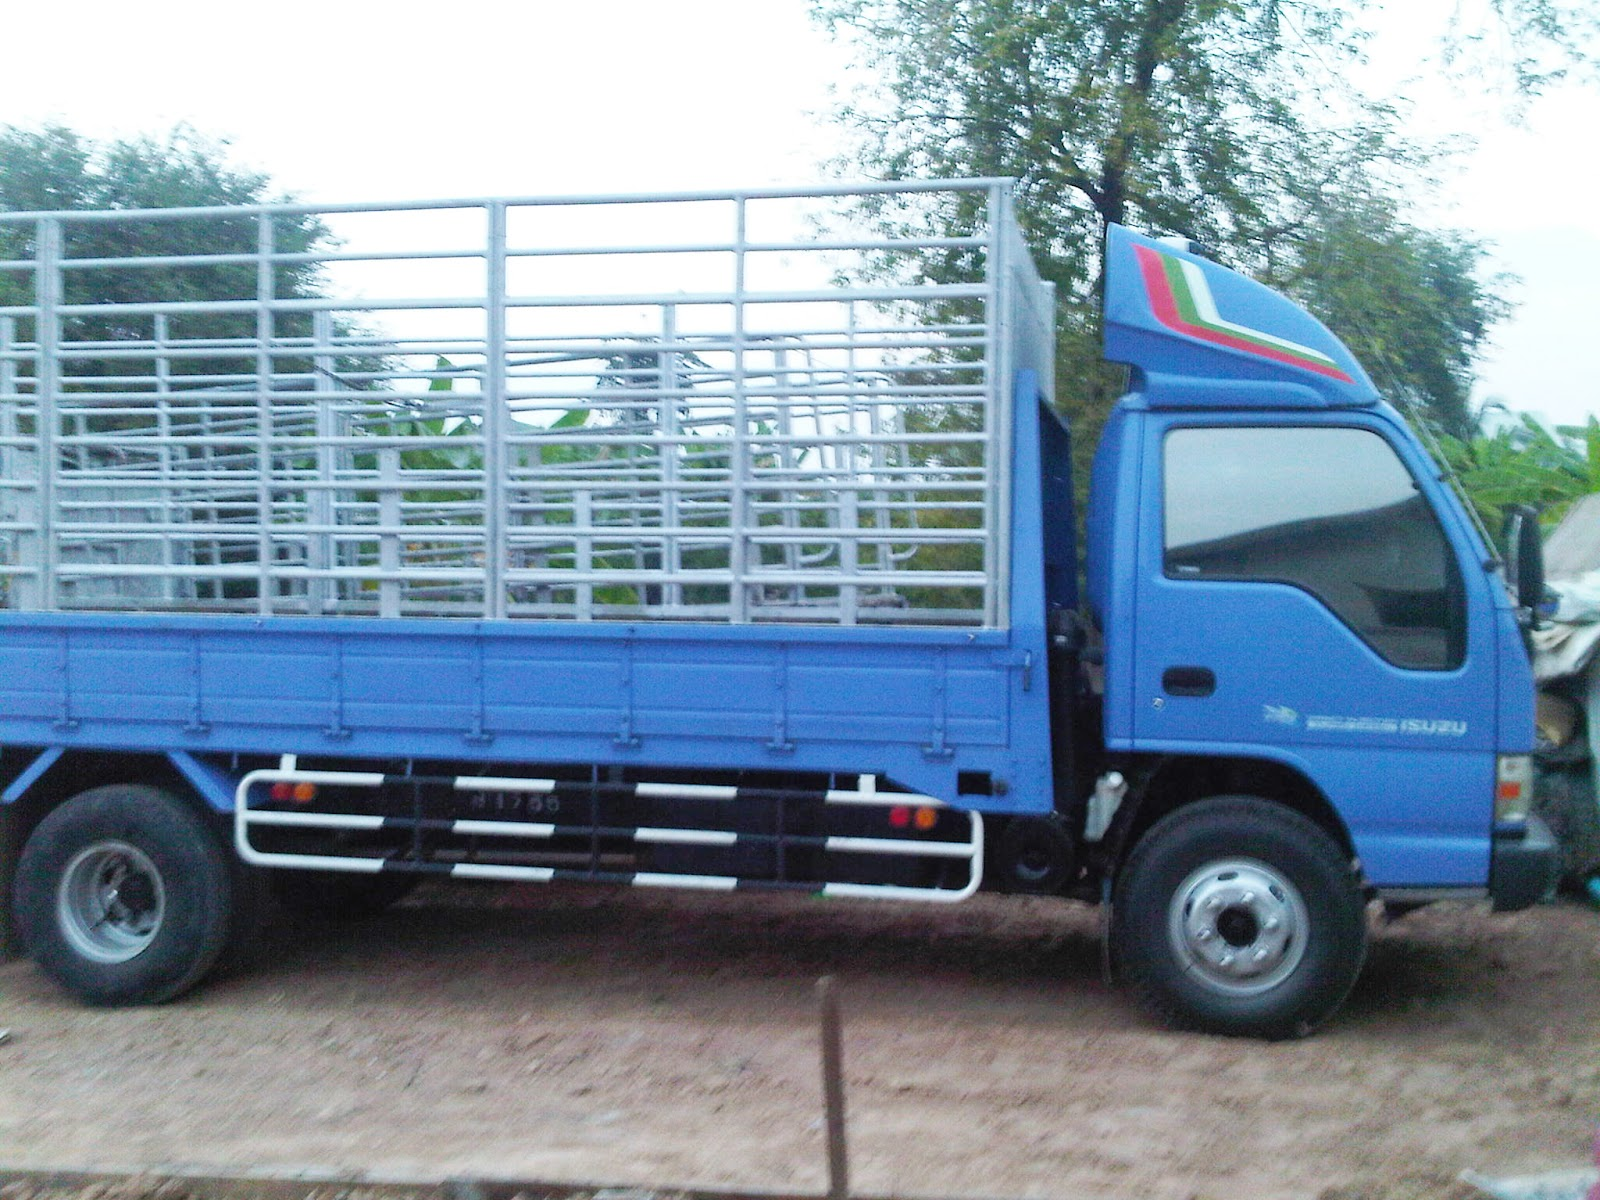truck: (6, 366, 1563, 1034)
